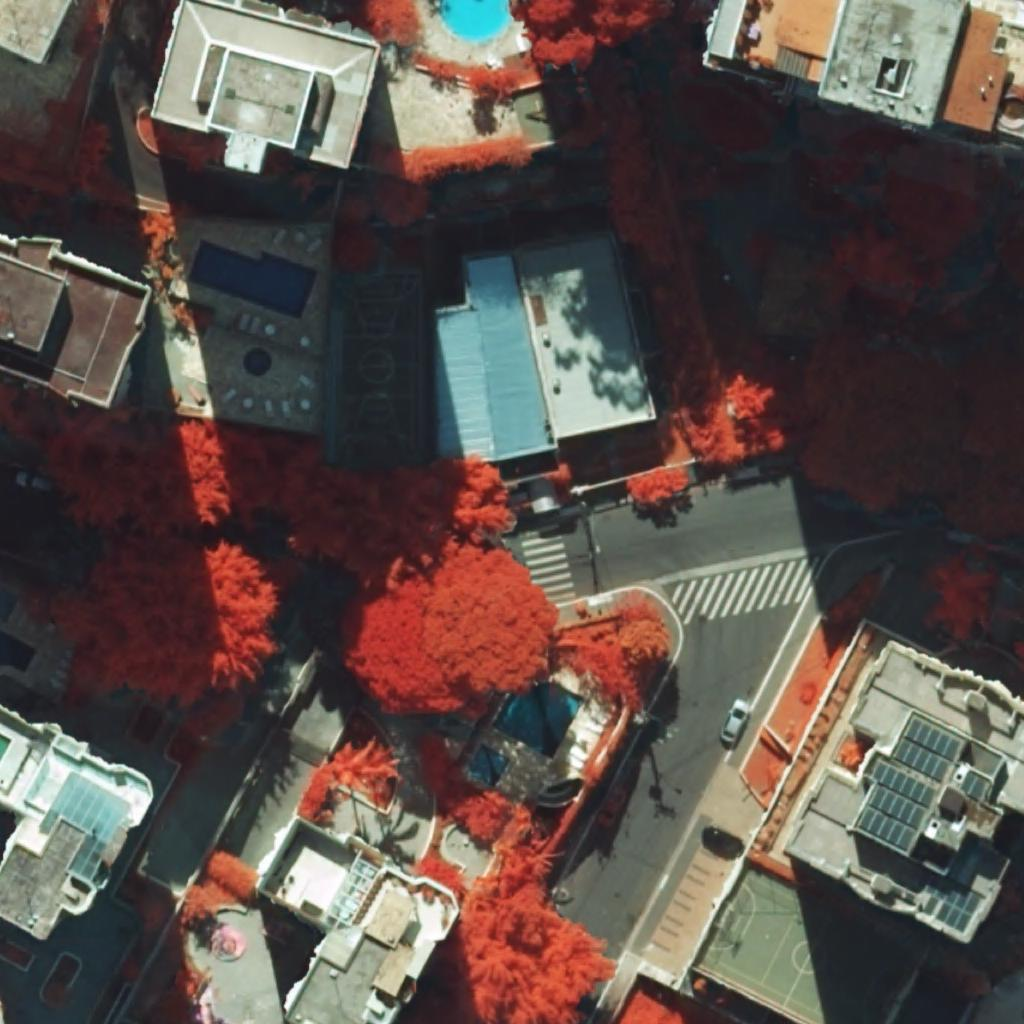pool: (188, 241, 318, 320), (491, 682, 585, 761), (439, 0, 510, 43), (469, 744, 510, 787), (243, 348, 272, 377)
